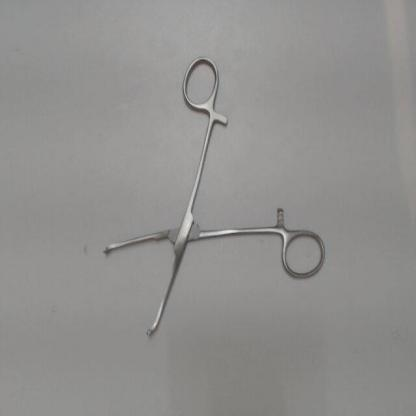Allis Tissue Forceps: (91, 47, 335, 347)
